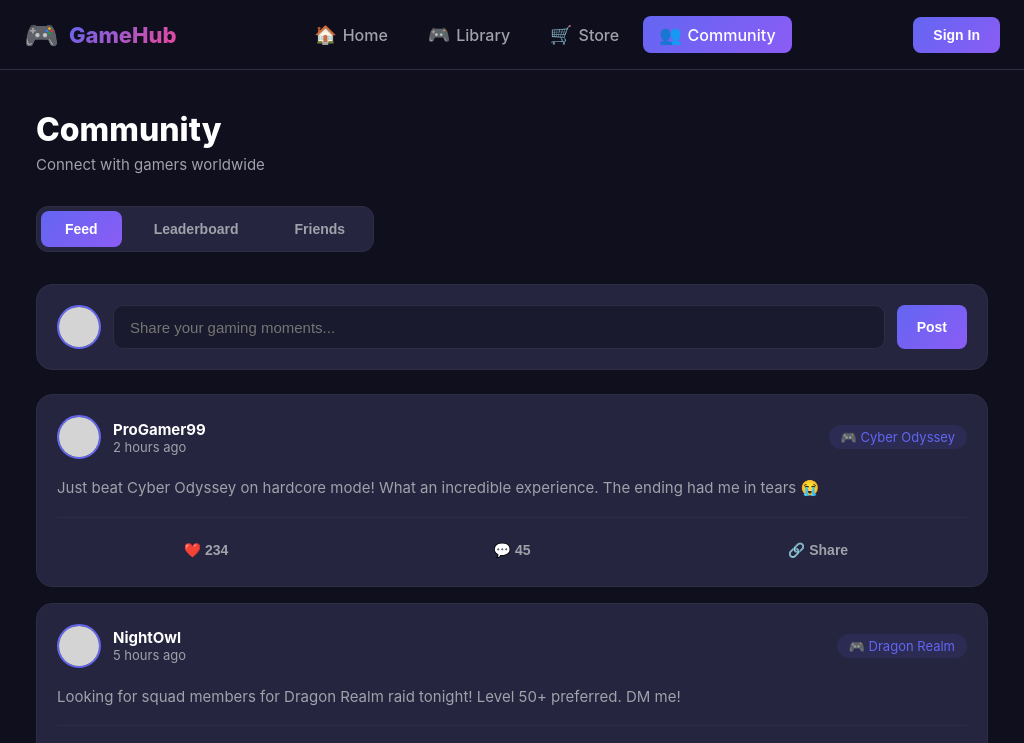
Test: Community Page › Friends tab shows the friends grid
The width and height of the screenshot is (1024, 743).
Click the button "Friends". click: coordinates (320, 229)
box: [270,211,369,247]
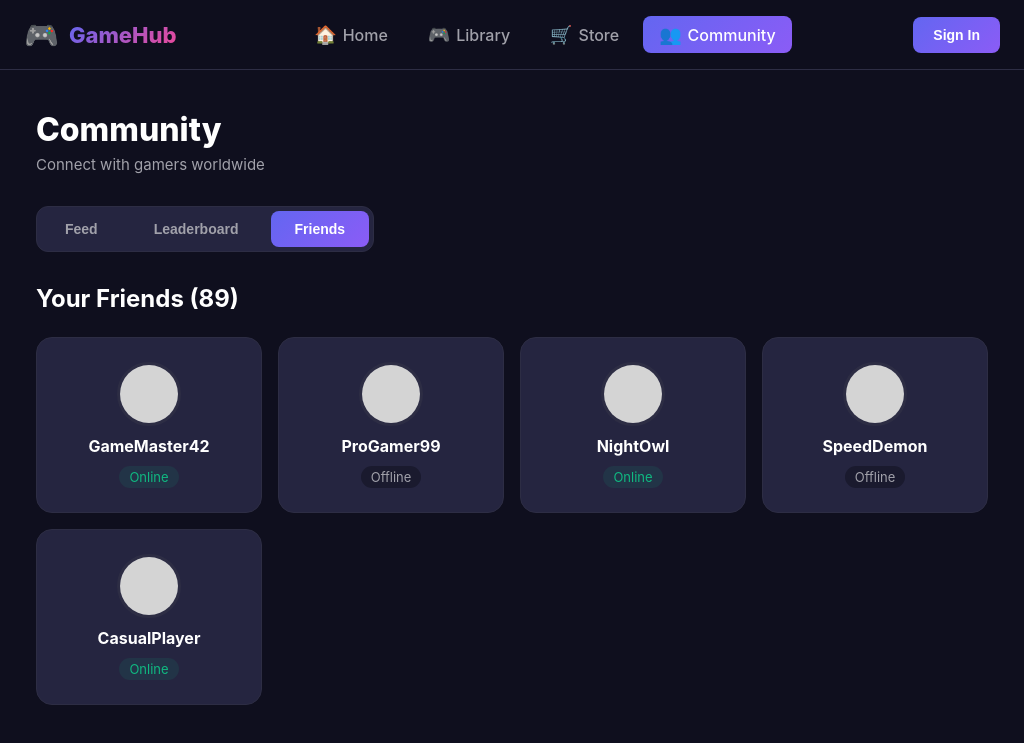
Now the heading "Your Friends (89)" is shown, box [36,284,239,313]
